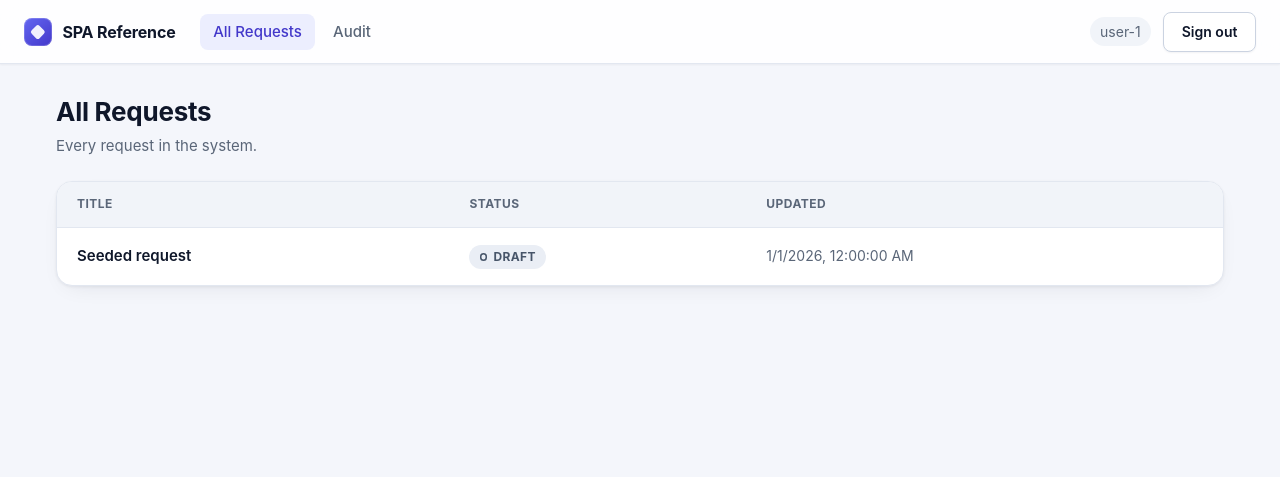
Scenario: Administrator flow › lists all requests and the audit history, and filters by request ID
Expected: the heading "All Requests" is shown, x1=56 y1=96 x2=211 y2=128
Click the link "Audit" at x=352, y=31, box x1=333 y1=22 x2=371 y2=41
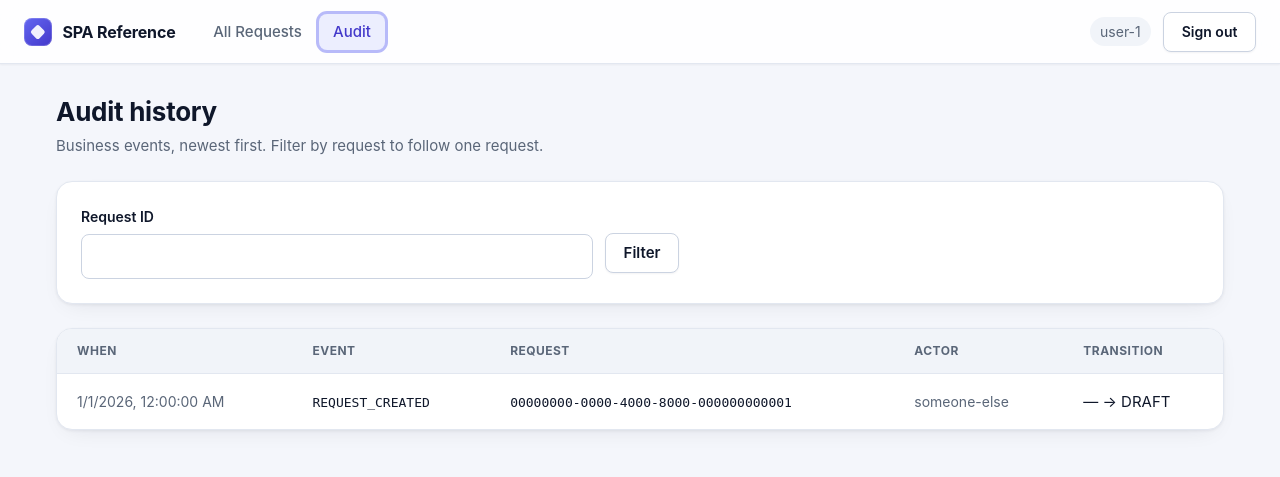
Expected: the text "REQUEST_CREATED" is shown, x1=312 y1=395 x2=430 y2=410
Expected: the text "— → DRAFT" is shown, x1=1083 y1=392 x2=1170 y2=411
Type "nope" into the field labelled "Request ID" at x=337, y=257, box x1=81 y1=234 x2=593 y2=279
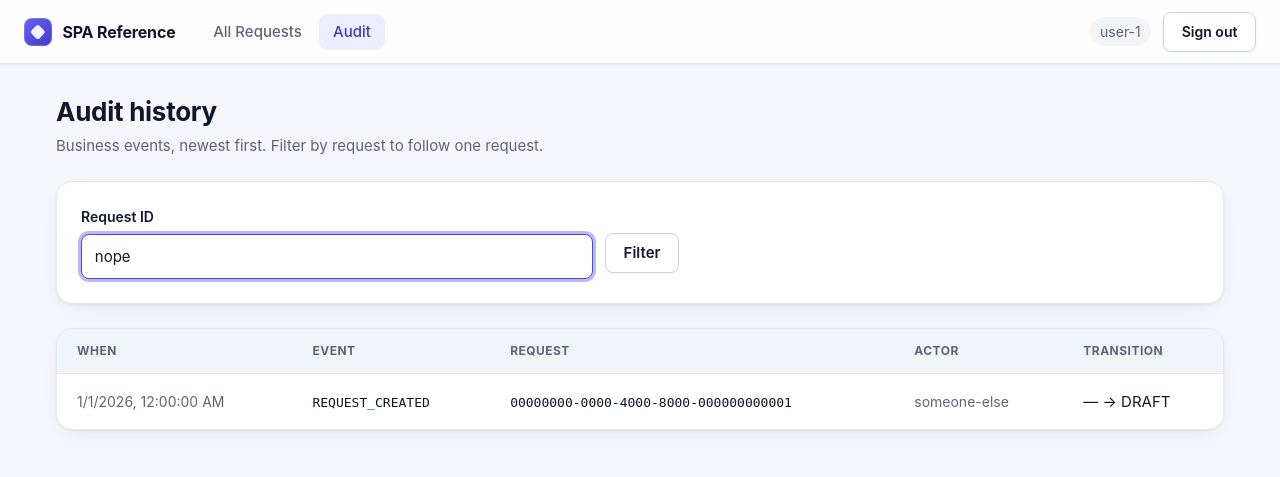
Click the button "Filter" at x=642, y=253, box x1=605 y1=233 x2=679 y2=273
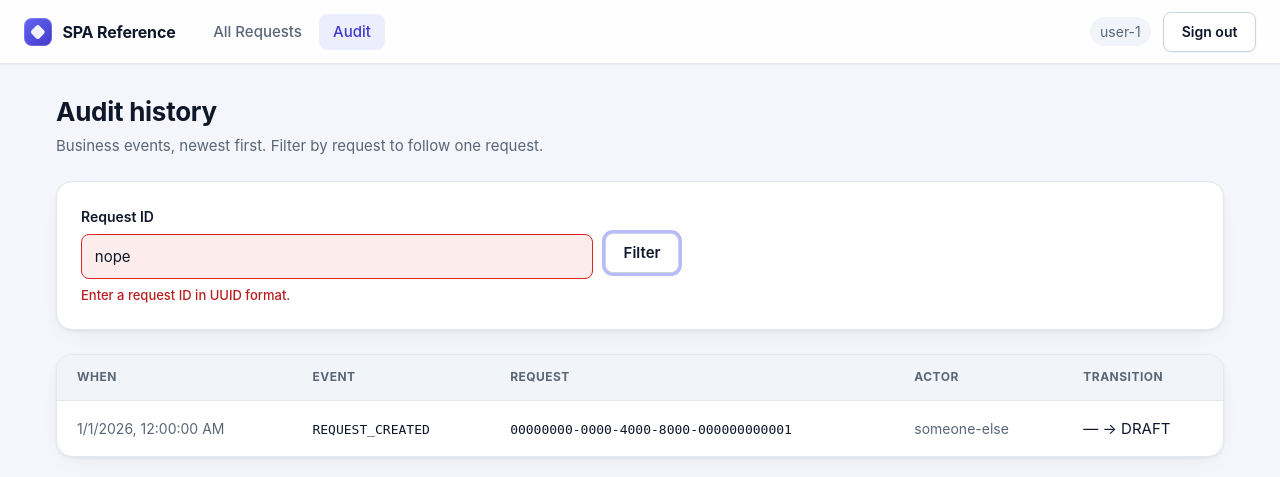
Expected: the text "Enter a request ID in UUID format." is shown, x1=81 y1=287 x2=290 y2=303
